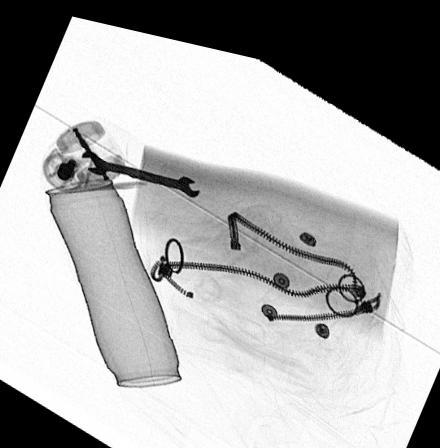Wrench: (78, 141, 201, 189)
